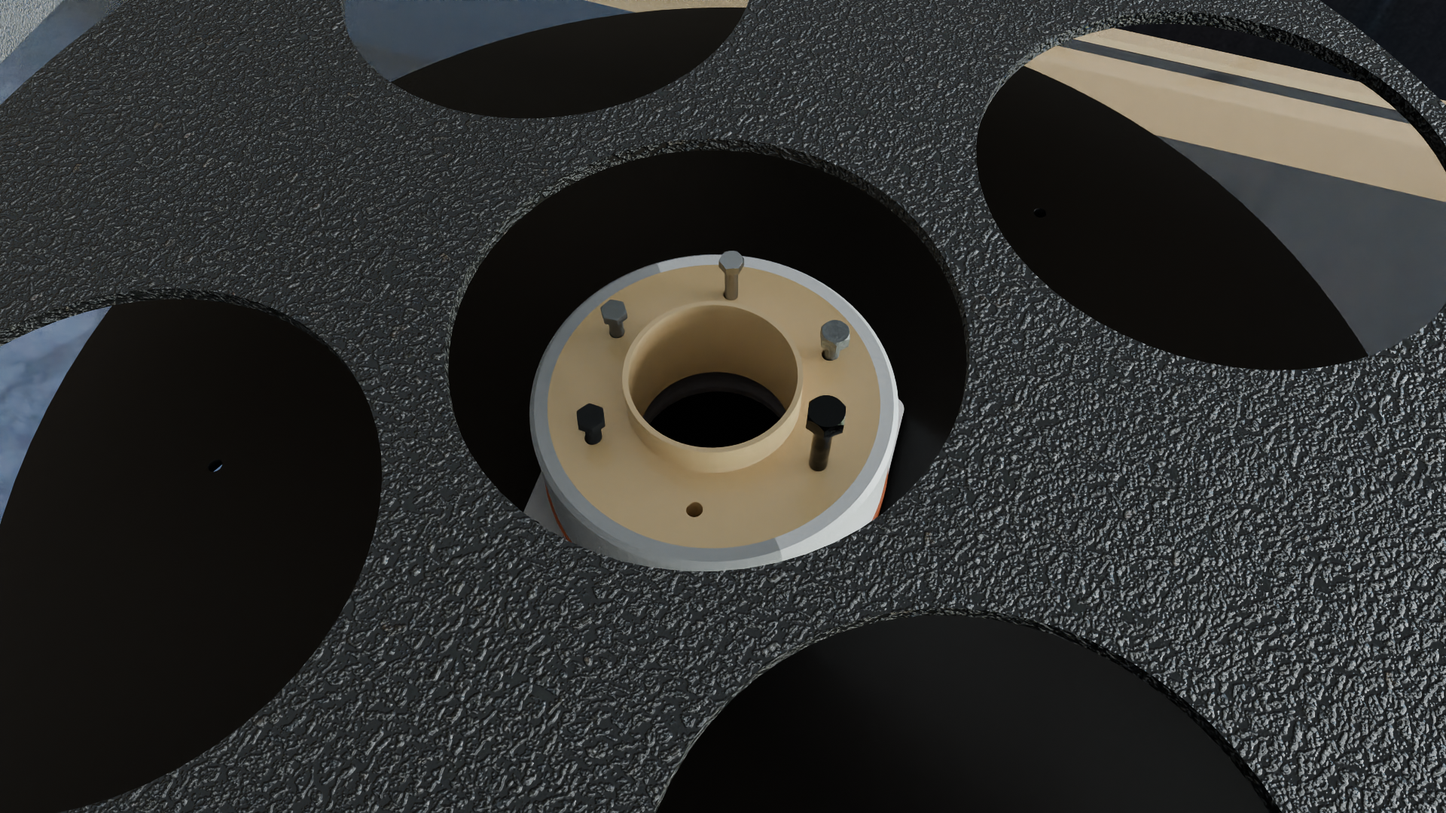bolt: (807, 395, 846, 432), (821, 320, 850, 346), (576, 403, 605, 429), (600, 300, 627, 321), (718, 251, 744, 269)
